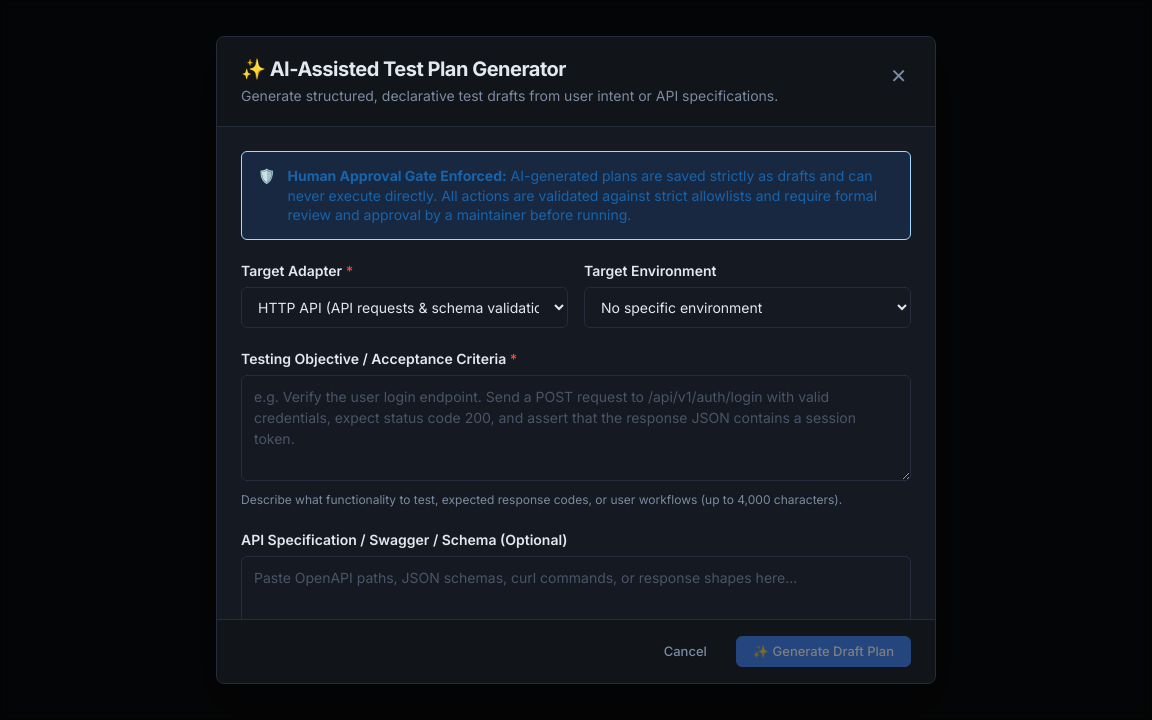
AIGeneratePlanModal › displays success preview and approval gate requirement when generation succeeds
Replace the text in the text box labelled "Testing Objective / Acceptance Criteria *" with "Verify health check endpoint" at (576, 428), box [241, 375, 911, 481]
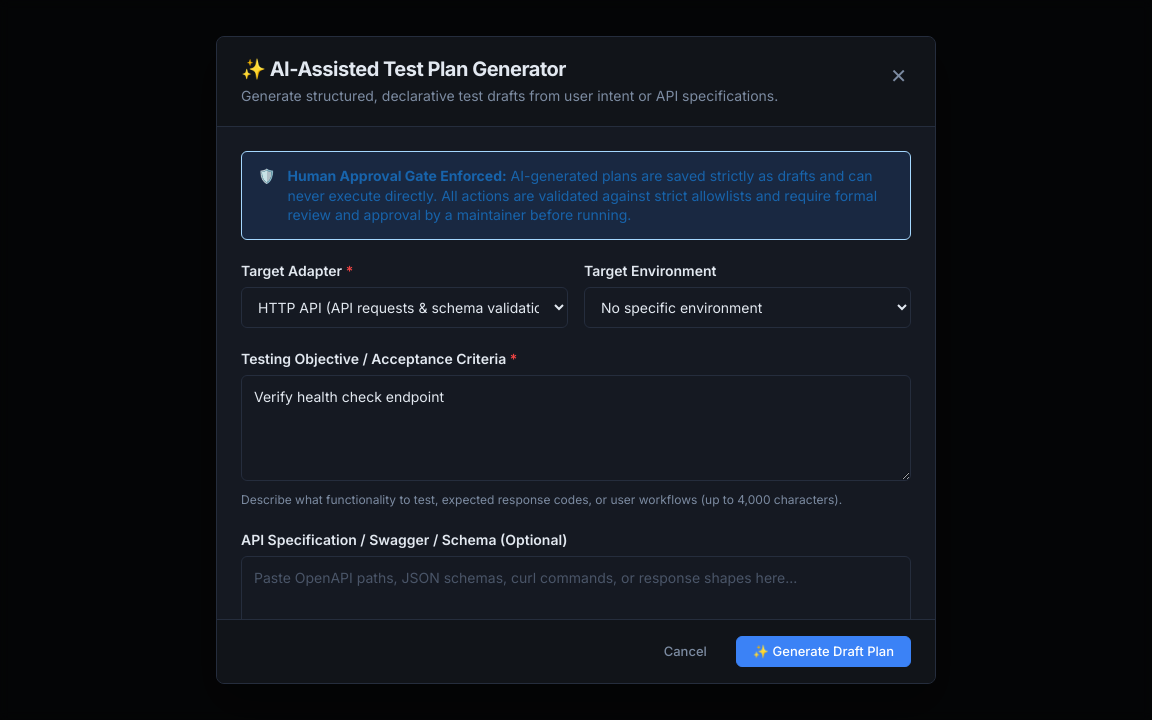
Click the button "✨ Generate Draft Plan" at (823, 652), box [736, 636, 911, 667]
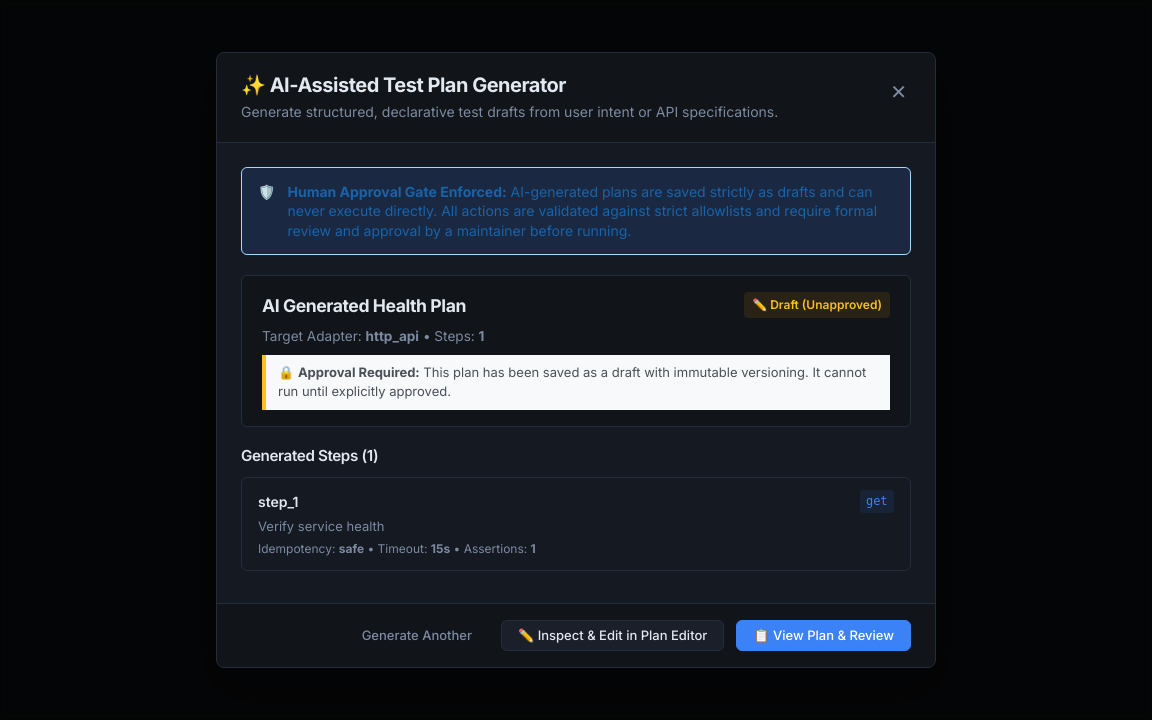
Expected: the heading "AI Generated Health Plan" is shown, [262, 295, 466, 316]
Expected: the text "✏️ Draft (Unapproved)" is shown, [744, 292, 890, 318]
Expected: the text "Approval Required:" is shown, [298, 364, 420, 380]
